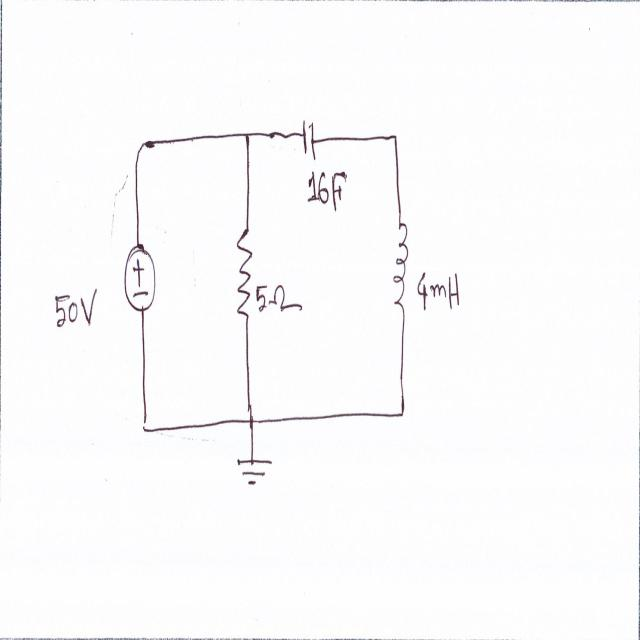capacitor: (302, 112, 316, 166)
ground: (234, 452, 277, 489)
inductor: (393, 218, 410, 318)
resistor: (234, 224, 254, 328)
voltage_source: (121, 241, 161, 312)
